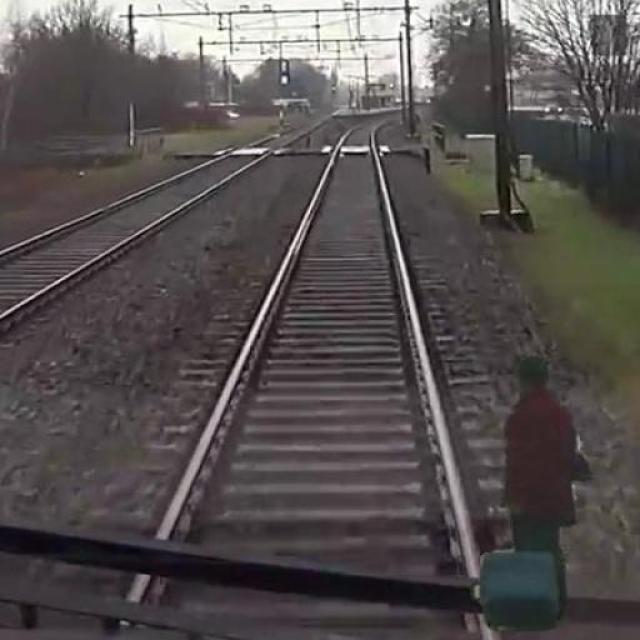people: (492, 349, 598, 596)
